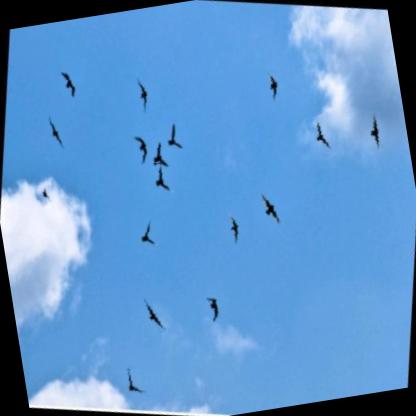bird: (135, 287, 175, 338), (252, 184, 291, 233), (38, 107, 74, 155), (358, 109, 394, 155), (126, 74, 160, 118), (216, 206, 250, 249), (306, 113, 338, 157), (120, 359, 153, 399), (254, 67, 285, 108), (52, 63, 83, 103), (148, 160, 178, 197), (133, 214, 162, 251), (160, 117, 189, 154), (124, 132, 153, 168), (198, 292, 227, 326), (147, 137, 176, 171), (36, 182, 55, 206)
